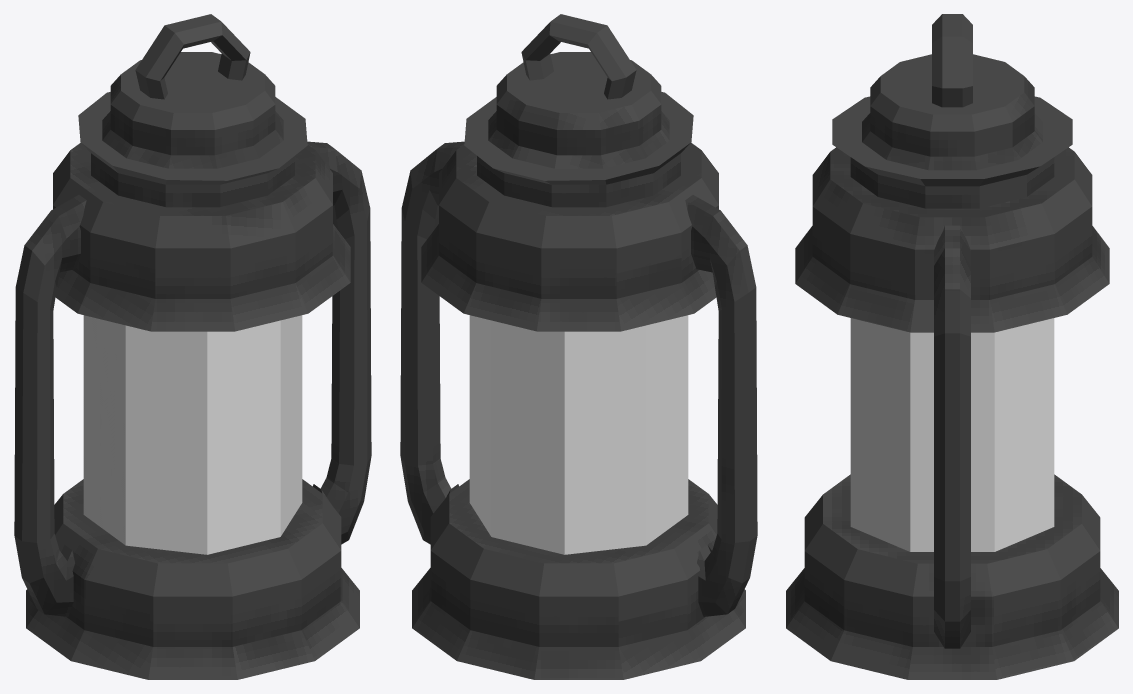
Rendered from lantern.gltf.
3 renders of one model, left to right at view 1: azimuth 30°, elevation 25°; view 2: azimuth 150°, elevation 25°; view 3: azimuth 270°, elevation 25°, orthographic.
Visible parts, largest first — view 1: cylinder (×7), torus; view 2: cylinder (×7), torus; view 3: cylinder (×6), torus.
Boxes of the visible parts, bbox=[...] form: cylinder (×7): bbox=[14, 52, 371, 679]; torus: bbox=[135, 14, 250, 99]; cylinder (×7): bbox=[400, 52, 757, 679]; torus: bbox=[521, 14, 636, 99]; cylinder (×6): bbox=[786, 54, 1118, 679]; torus: bbox=[932, 14, 972, 107].
Size of the model in its own units: 0.68 by 1.09 by 0.5625.
Materials: 3 (1 with a texture image).
